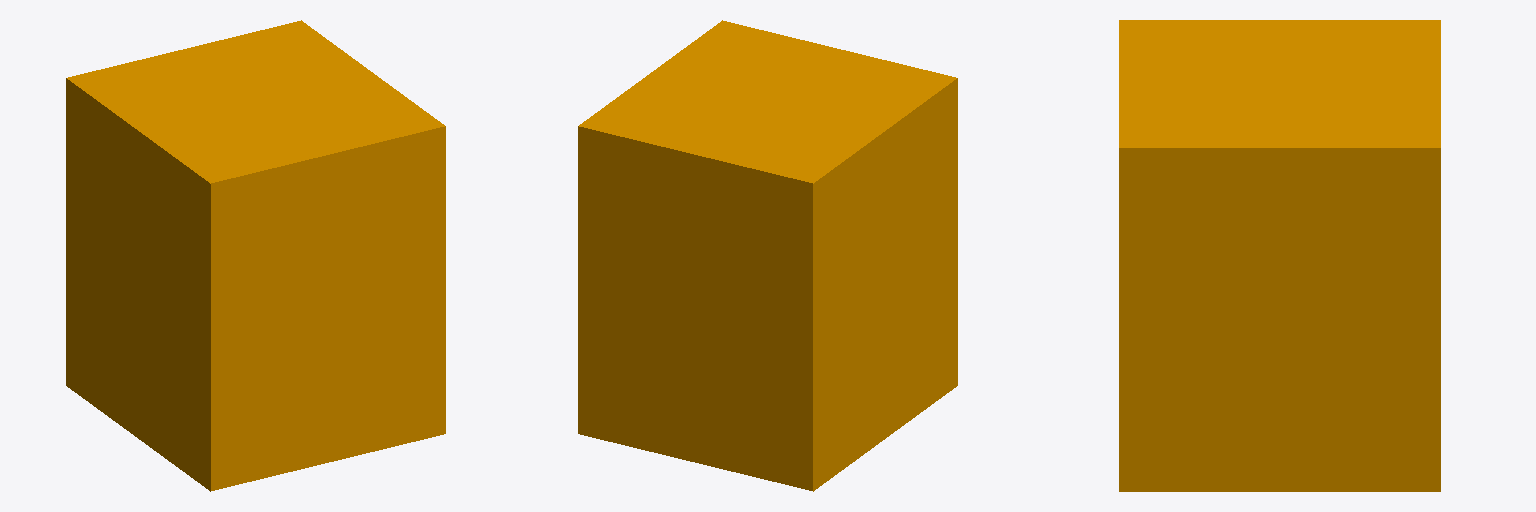
URDF robot description (object):
<robot name="object">
  <link name="object">
    <visual>
      <origin xyz="0 0 0" />
      <geometry>
        <box size="0.064 0.068 0.08" />
      </geometry>
    </visual>

    <collision>
      <origin xyz="0 0 0" />
      <geometry>
        <box size="0.064 0.068 0.08" />
      </geometry>
    </collision>

    <inertial>
      <mass value="0.05" />
      <inertia ixx="0.0001" ixy="0.0" ixz="0.0" iyy="0.0001" iyz="0.0" izz="0.0001" />
    </inertial>
  </link>
</robot>

--- Render facts (derived) ---
3 views of the same robot in one strip: view 1: azimuth 30°, elevation 25°; view 2: azimuth 150°, elevation 25°; view 3: azimuth 270°, elevation 25° (orthographic).
Model object with 1 links and 0 joints (none), rooted at object, posed every joint at zero.
Visible links, largest first — view 1: object; view 2: object; view 3: object.
Link boxes in pixels (x1,y1,x2,y2): object: [66, 20, 445, 491]; object: [578, 20, 957, 491]; object: [1119, 20, 1440, 491].
Size in the robot's own frame: 0.064 by 0.068 by 0.08 metres.
Geometry: primitives only (box / cylinder / sphere), no mesh files.